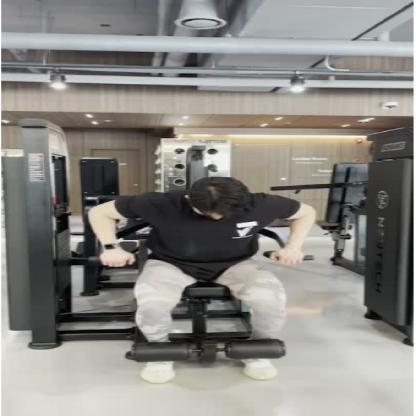seated dip machine: (2, 112, 326, 385)
